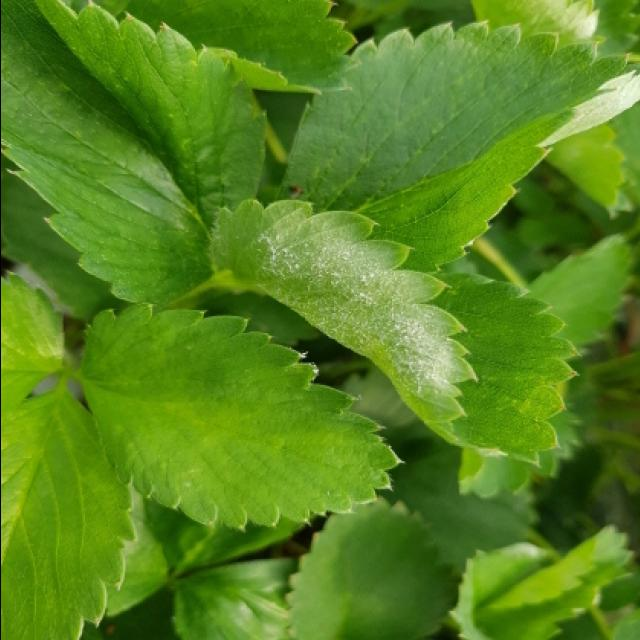Powdery Mildew Leaf: (207, 199, 579, 471)
